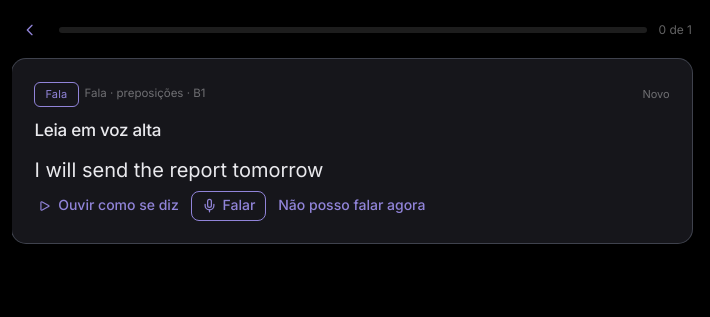
fala sem microfone é pulo, não erro
Click the button "Não posso falar agora".
click(352, 206)  # box [274, 191, 429, 221]
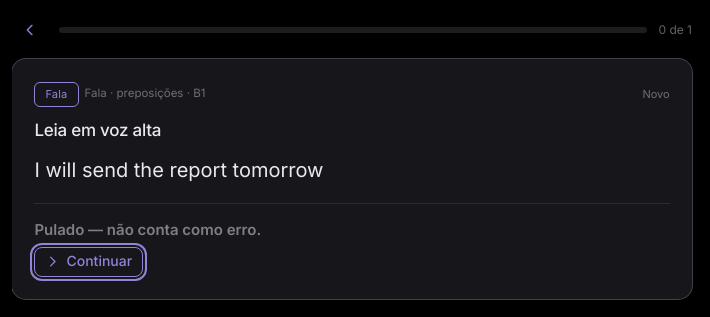
expect the text "Pulado — não conta como erro." is shown: met, box [34, 220, 261, 239]
